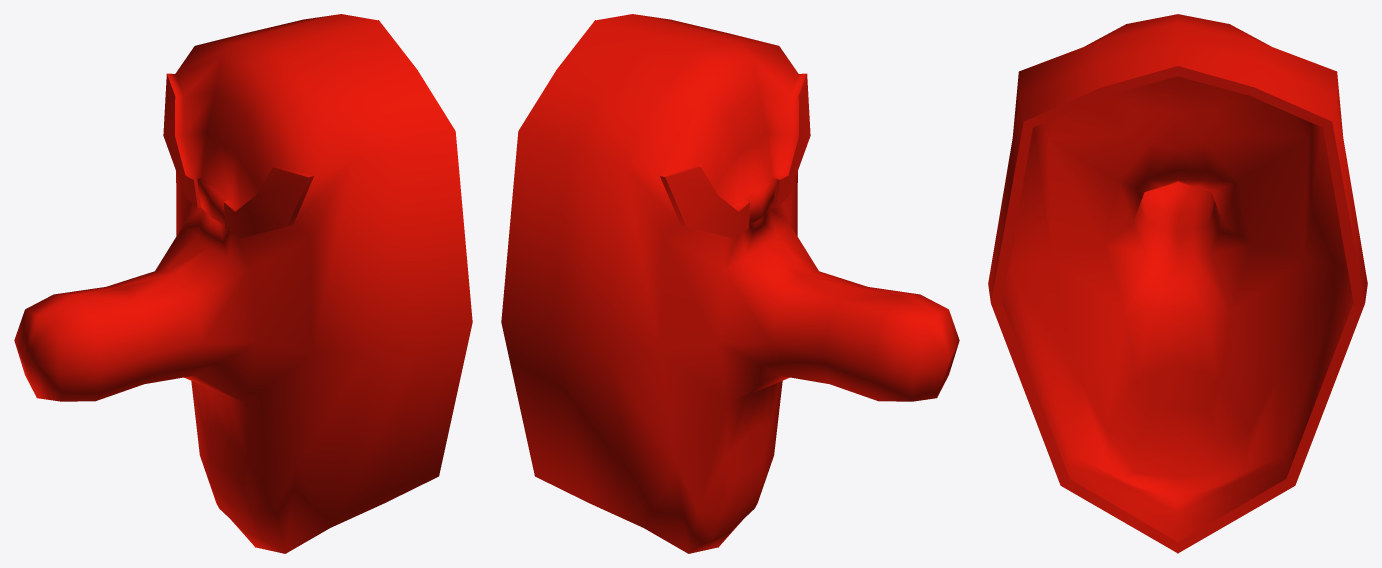
The model's file is Tengu1.fbx.
The picture shows the model from 3 angles, left to right: view 1: azimuth 30°, elevation 25°; view 2: azimuth 150°, elevation 25°; view 3: azimuth 270°, elevation 25°; orthographic projection.
Parts seen in each view (by area): view 1: Cube.002; view 2: Cube.002; view 3: Cube.002.
Boxes of the visible parts, box(x1,y1,x2,y2) form: Cube.002: box(14, 14, 472, 553); Cube.002: box(501, 14, 959, 553); Cube.002: box(988, 14, 1367, 553).
Size of the model in its own units: 172 by 231 by 156.
